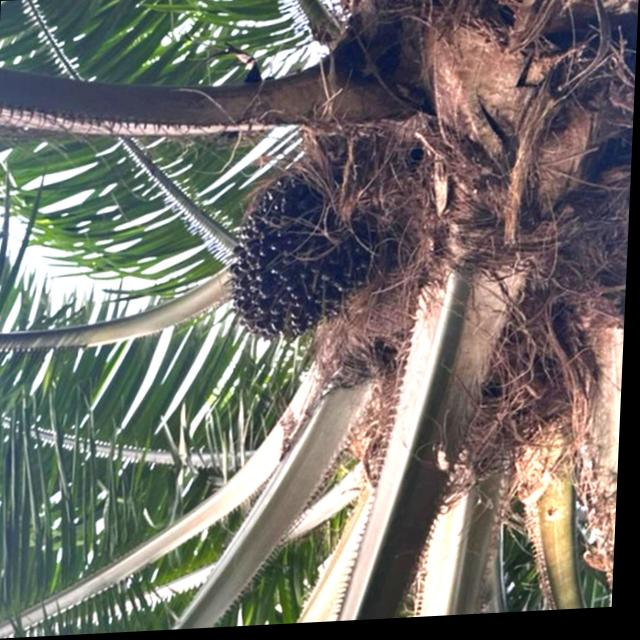almost: (226, 175, 391, 352)
